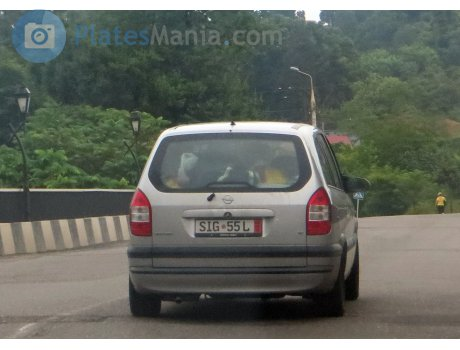License Plates: (200, 217, 259, 232)
